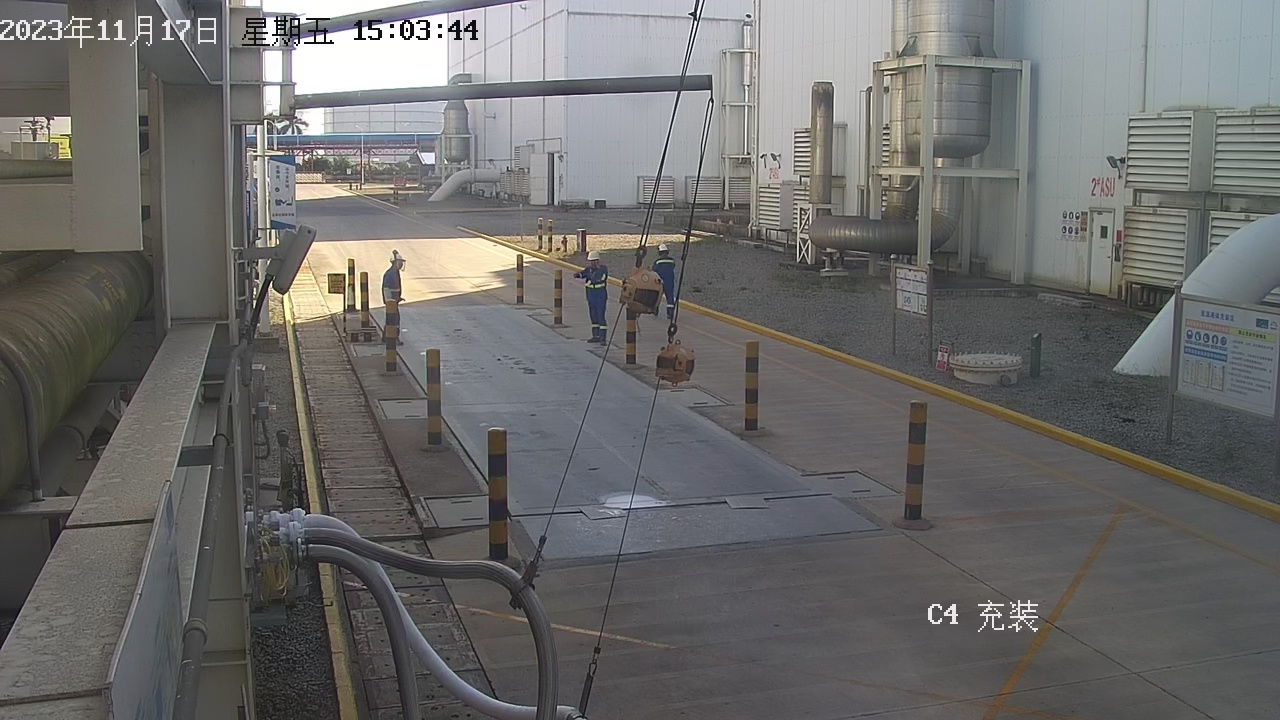Head_with_Helmet: (376, 243, 412, 275), (578, 246, 609, 271), (649, 238, 680, 259)
Uniform: (566, 262, 622, 354), (363, 265, 421, 344), (638, 255, 696, 332)
